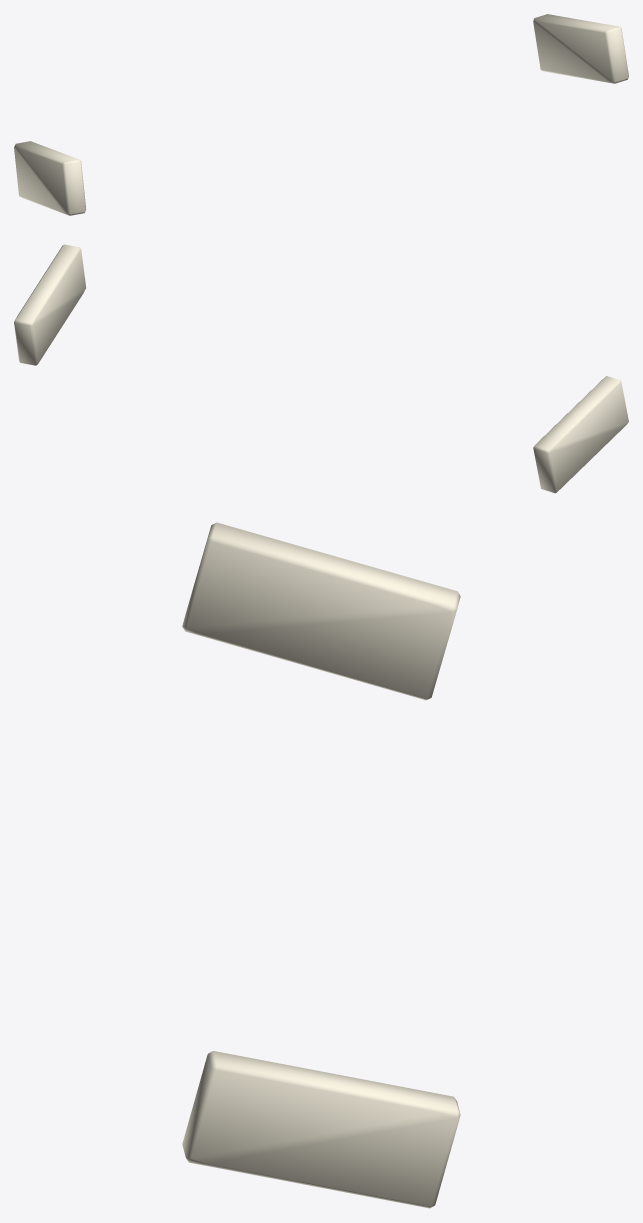
The model's file is palpebral_lig_s122.glb.
3 views of the same model, one above another, from view 1: azimuth 30°, elevation 25°; view 2: azimuth 150°, elevation 25°; view 3: azimuth 270°, elevation 25° (orthographic). The views are drawn at different scales.
Visible parts, largest first — view 1: Medial palpebral ligament.l, Medial palpebral ligament.r; view 2: Medial palpebral ligament.r, Medial palpebral ligament.l; view 3: Medial palpebral ligament.l, Medial palpebral ligament.r.
Part boxes in pixels (bbox=[...]): Medial palpebral ligament.l: bbox=[533, 14, 628, 83]; Medial palpebral ligament.r: bbox=[14, 141, 86, 215]; Medial palpebral ligament.r: bbox=[533, 376, 628, 493]; Medial palpebral ligament.l: bbox=[14, 244, 86, 365]; Medial palpebral ligament.l: bbox=[182, 1051, 460, 1208]; Medial palpebral ligament.r: bbox=[182, 522, 460, 700].
Size of the model in its own units: 0.0235 by 0.00308 by 0.00504.
